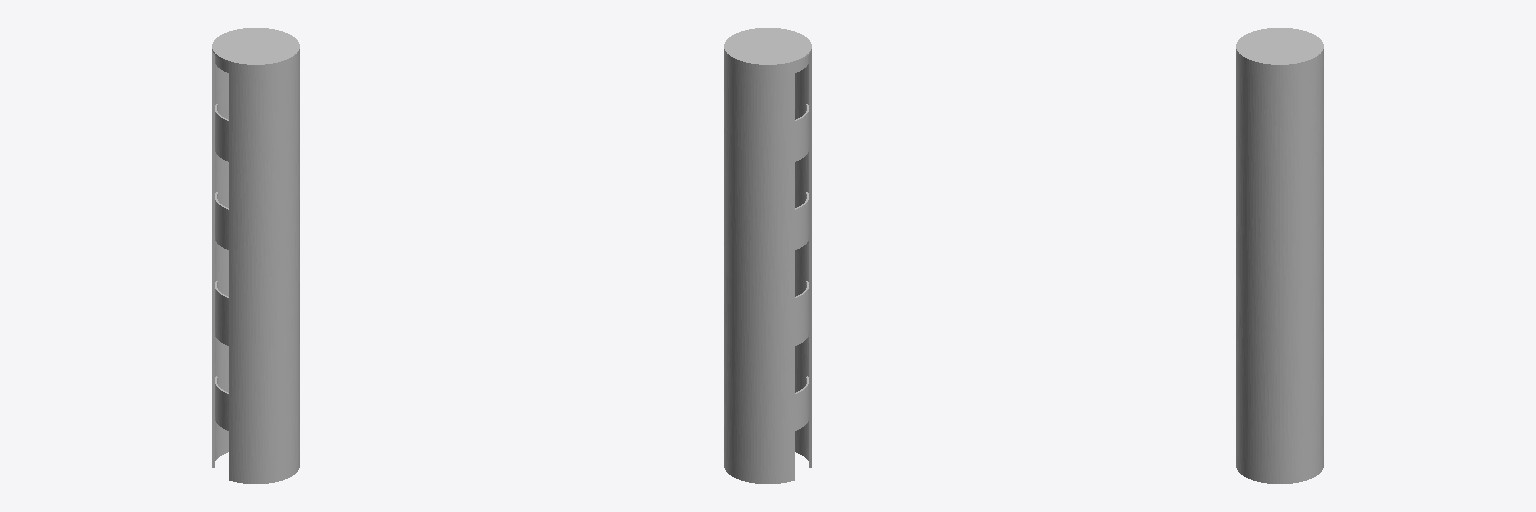
Rendered from lift_koker.obj.
The picture shows the model from 3 angles: view 1: azimuth 30°, elevation 25°; view 2: azimuth 150°, elevation 25°; view 3: azimuth 270°, elevation 25°; orthographic projection.
Parts seen in each view (by area): view 1: Walls, Floors; view 2: Walls, Floors; view 3: Walls, Floors.
Part boxes in pixels (left/top/right/bottom): Walls: left=212, top=51, right=299, bottom=483; Floors: left=212, top=28, right=299, bottom=66; Walls: left=724, top=51, right=811, bottom=483; Floors: left=724, top=28, right=811, bottom=66; Walls: left=1236, top=51, right=1323, bottom=483; Floors: left=1236, top=28, right=1323, bottom=66.
Size of the model in its own units: 4 by 21.05 by 4.